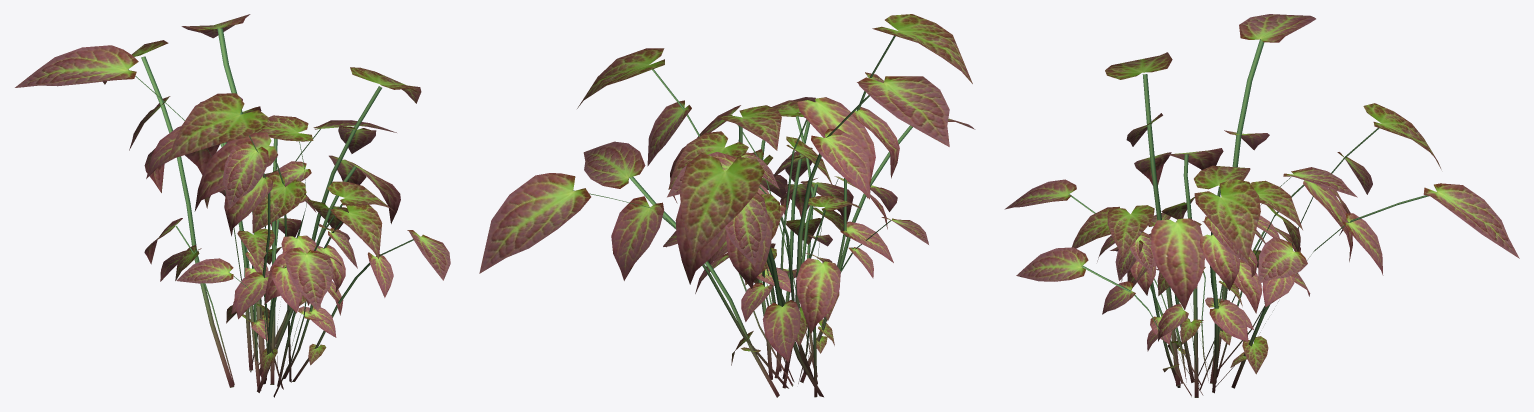
The model's file is lavabuske_lod0.fbx.
3 views of the same model, side by side, from view 1: azimuth 30°, elevation 25°; view 2: azimuth 150°, elevation 25°; view 3: azimuth 270°, elevation 25° (orthographic). The views are drawn at different scales.
Parts seen in each view (by area): view 1: Mesh Object; view 2: Mesh Object; view 3: Mesh Object.
Boxes of the visible parts, x1,y1,x2,y2 form: Mesh Object: (15, 14, 450, 397); Mesh Object: (479, 14, 975, 397); Mesh Object: (1004, 14, 1519, 397).
Size of the model in its own units: 2.42 by 2.08 by 3.13.
